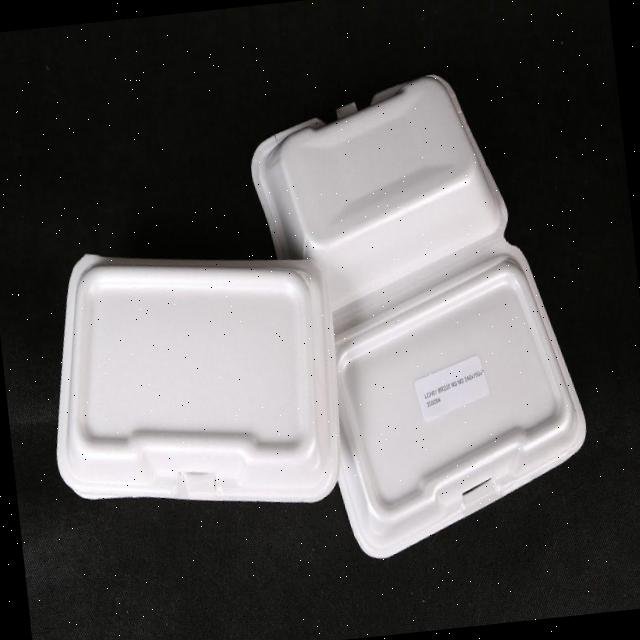styrofoam: (19, 57, 598, 592), (35, 225, 352, 529)
